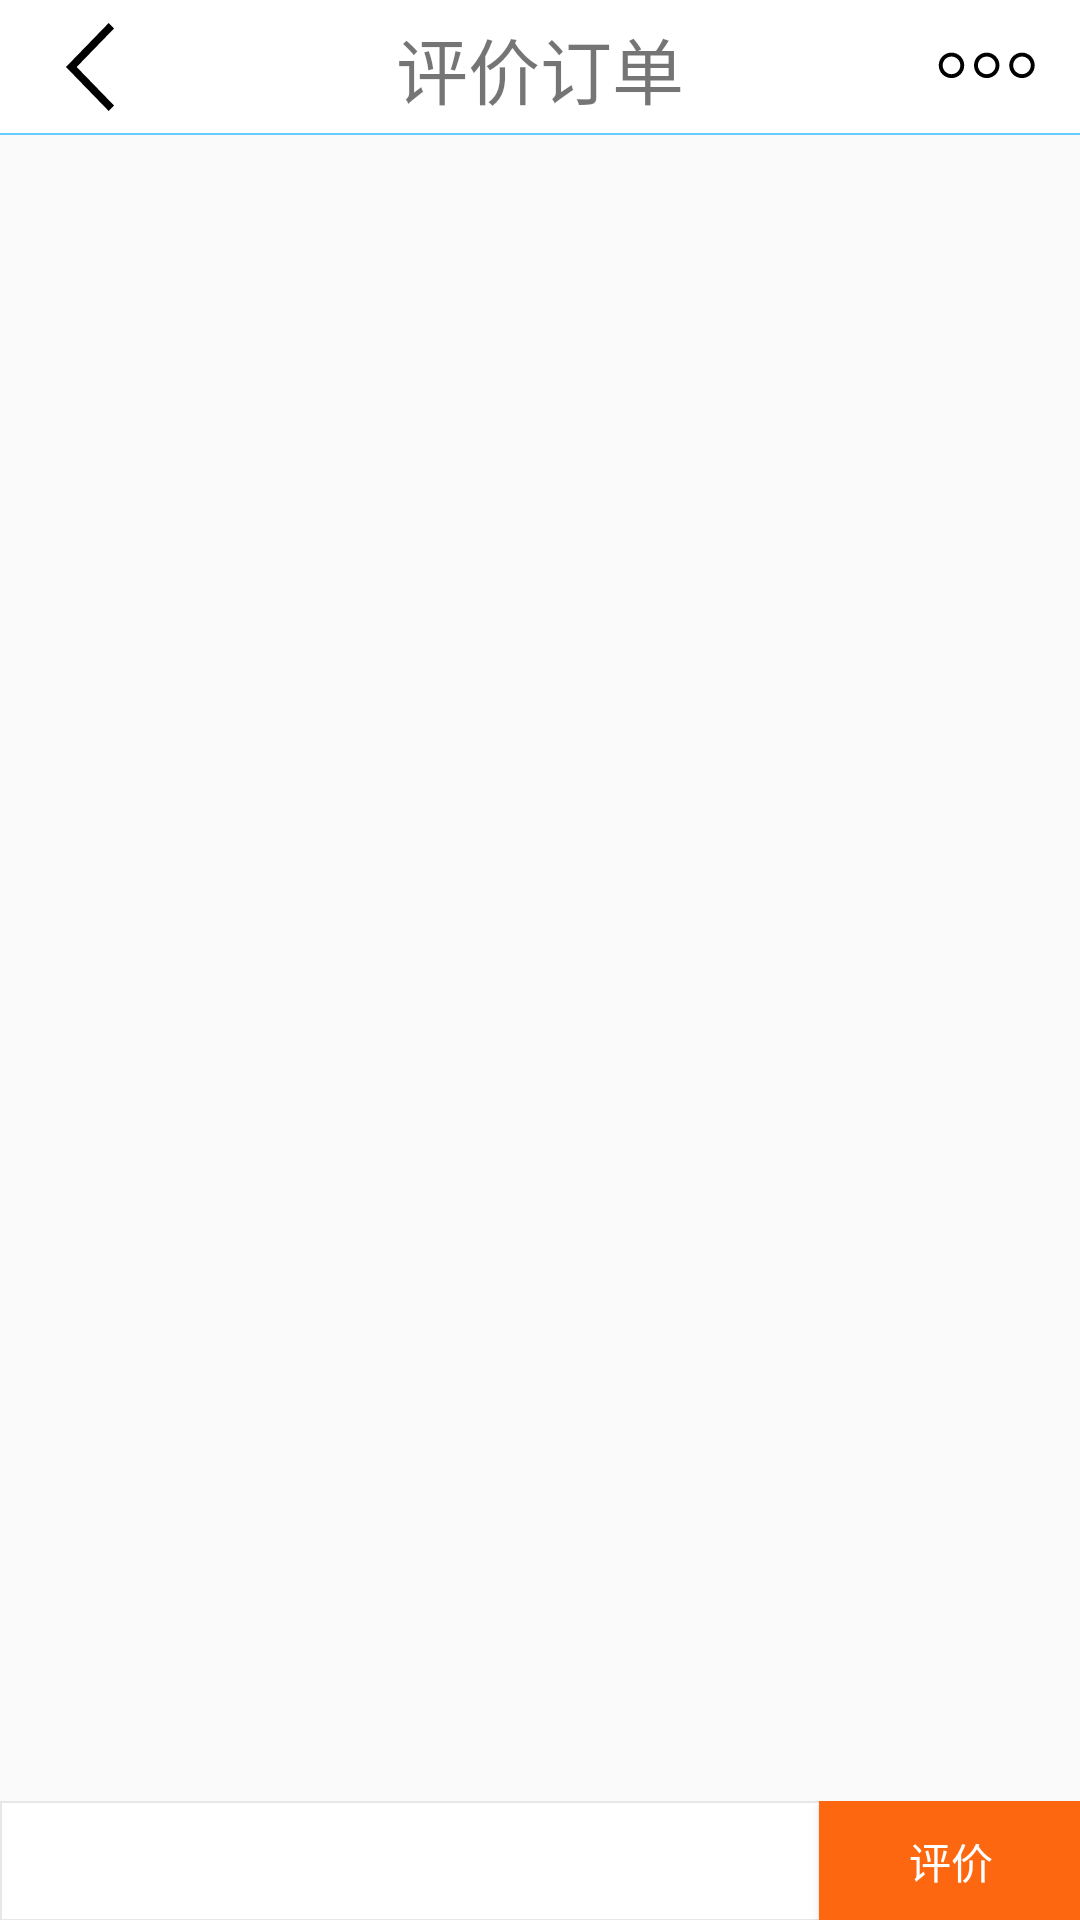

Screen size 1080 x 1920. Icon name, then its box in pixels as (left=x1, top=y1, right=x2, bottom=y2):
back: (left=66, top=23, right=114, bottom=111)
more: (left=938, top=52, right=1035, bottom=78)
